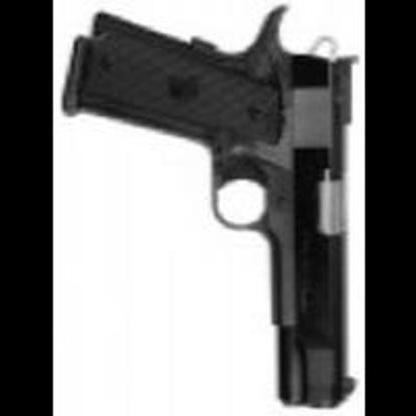weapon: (63, 2, 357, 410)
